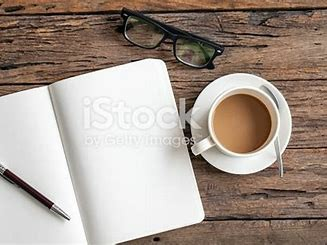pen: (1, 164, 72, 224)
